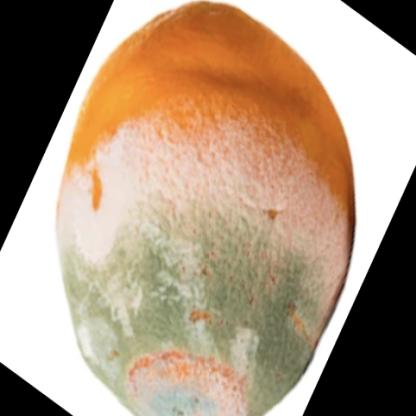rotten: (57, 2, 357, 416)
